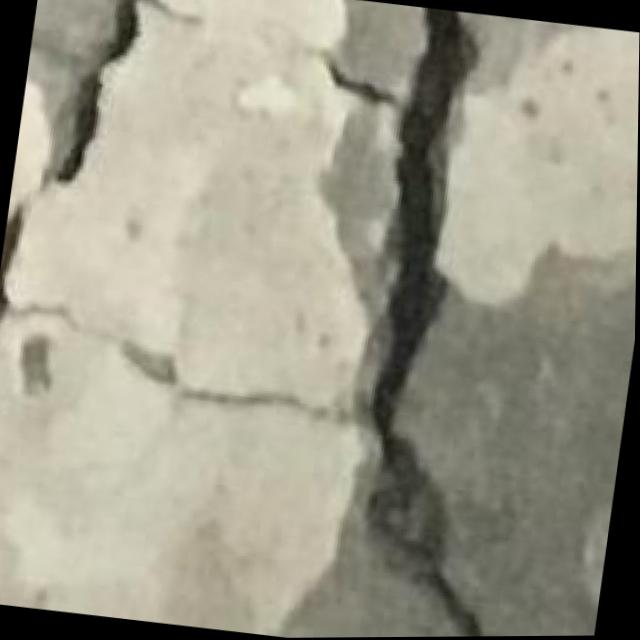Crack: (0, 60, 639, 640)
